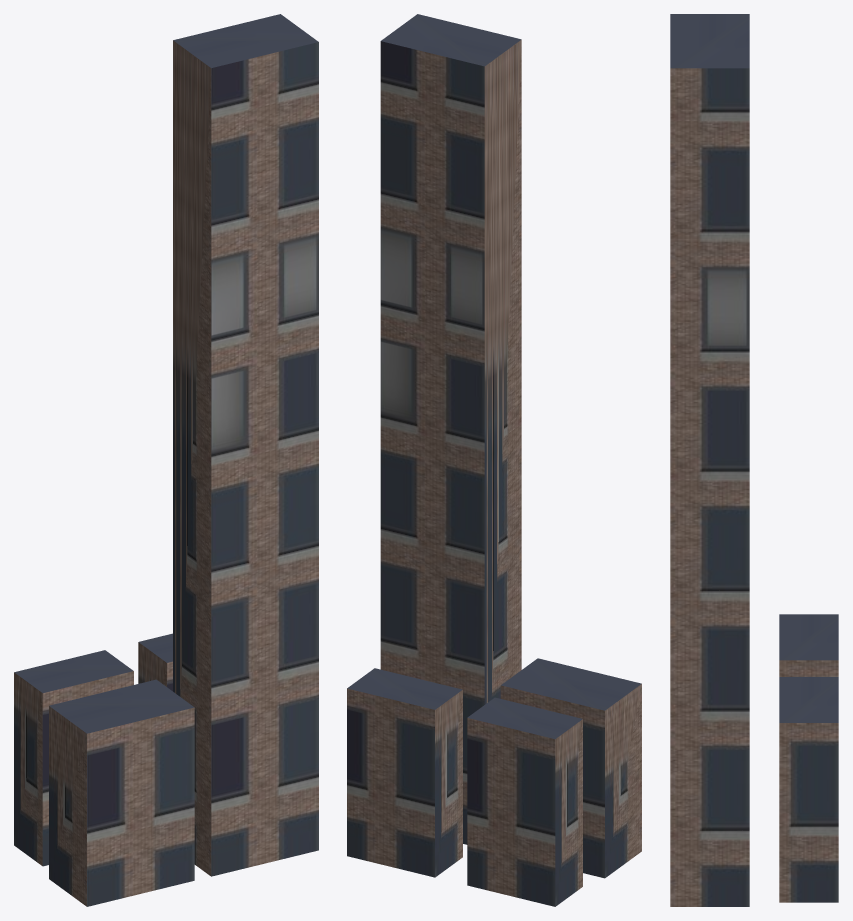
File: block_05.obj
The picture shows the model from 3 angles, left to right: view 1: azimuth 30°, elevation 25°; view 2: azimuth 150°, elevation 25°; view 3: azimuth 270°, elevation 25°; orthographic projection. The views are drawn at different scales.
Parts seen in each view (by area): view 1: b3, b1, b0, b2; view 2: b3, b0, b2, b1; view 3: b3, b2, b0.
Boxes of the visible parts, left/top/right/bottom form: b3: left=173, top=14, right=318, bottom=876; b1: left=49, top=679, right=194, bottom=906; b0: left=14, top=650, right=133, bottom=866; b2: left=138, top=633, right=172, bottom=691; b3: left=380, top=14, right=521, bottom=844; b0: left=467, top=697, right=582, bottom=906; b2: left=347, top=668, right=462, bottom=877; b1: left=500, top=658, right=641, bottom=878; b3: left=670, top=14, right=749, bottom=906; b2: left=779, top=677, right=838, bottom=902; b0: left=779, top=614, right=838, bottom=676.
Size of the model in its own units: 4.2 by 14 by 2.55.
